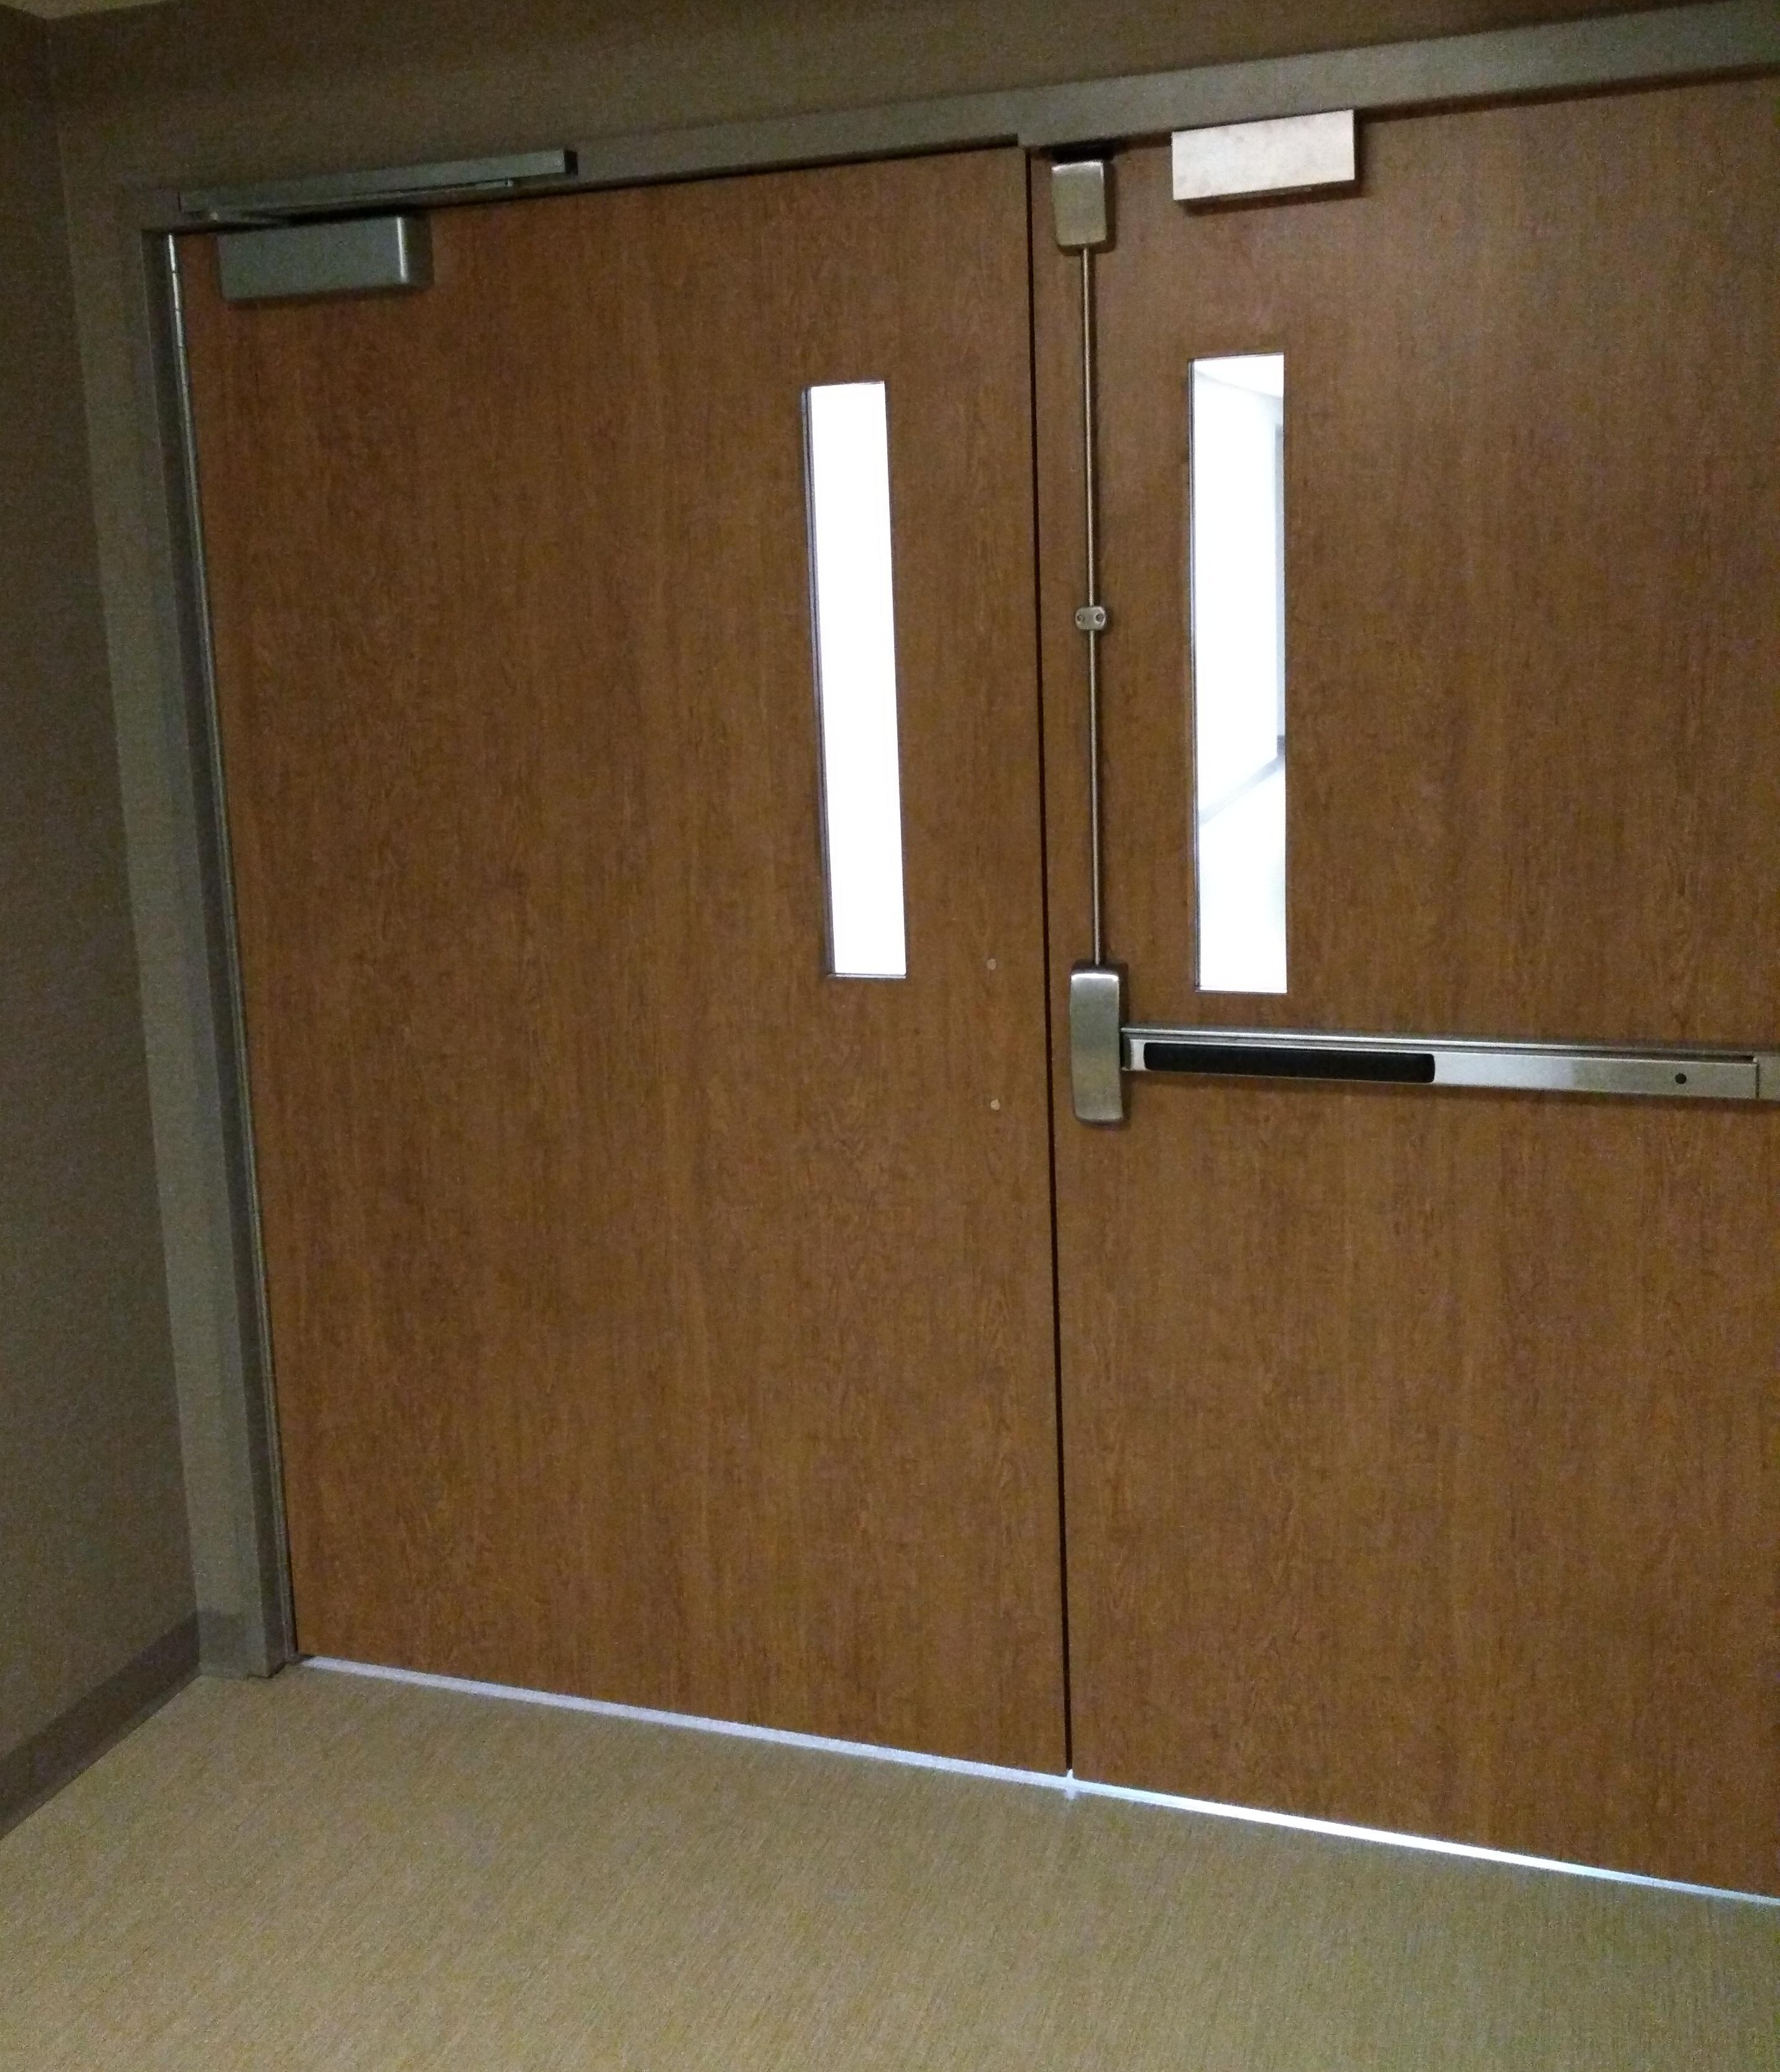door: (115, 139, 1780, 1864)
